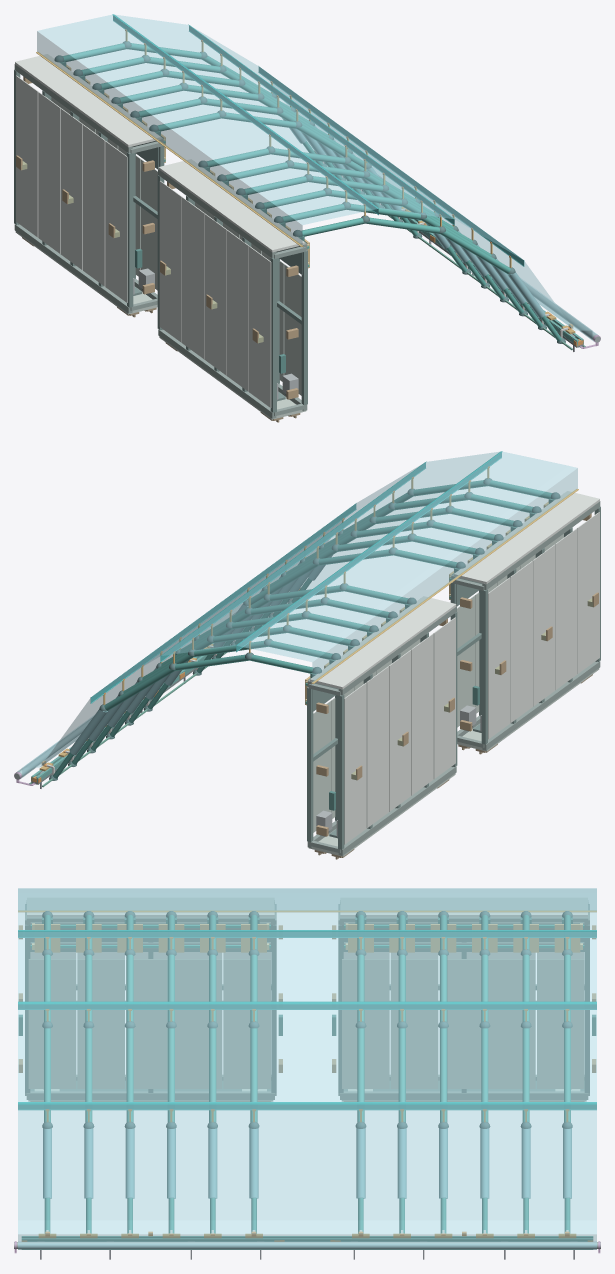
Rendered from 05_two_modules_BR750.glb.
3 renders of one model, top to bottom at view 1: azimuth 30°, elevation 25°; view 2: azimuth 150°, elevation 25°; view 3: azimuth 270°, elevation 25°, orthographic. The views are drawn at different scales.
Visible parts, largest first — view 1: F04_CONTINUOUS_SINGLE_SHEET, M2_W01_P_wall_top_coping, M1_W01_P_wall_top_coping, M2_W01_P_outer_back_2, M1_W01_P_outer_back_2, M1_W01_P_outer_back_4, M2_W01_P_outer_back_4, M1_W01_P_outer_back_3, M1_W01_P_outer_back_1, M2_W01_P_outer_back_3, M2_W01_P_outer_back_5, M1_W01_P_outer_back_5 (+19 smaller); view 2: F04_CONTINUOUS_SINGLE_SHEET, M1_W01_P_wall_top_coping, M2_W01_P_wall_top_coping, M2_W01_P_outer_back_2, M2_W01_P_outer_back_4, M1_W01_P_outer_back_2, M1_W01_P_outer_back_4, M2_W01_P_outer_back_5, M2_W01_P_outer_back_3, M1_W01_P_outer_back_3, M1_W01_P_outer_back_1, M1_W01_P_outer_back_5 (+17 smaller); view 3: F04_CONTINUOUS_SINGLE_SHEET, M1_W01_P_front_lower_1, M2_W01_P_front_lower_2, M1_W01_P_front_lower_2, M1_W01_P_front_lower_5, M2_W01_P_front_lower_1, M2_W01_P_front_lower_4, M2_W01_P_front_lower_5, M1_W01_P_front_lower_4, M1_W01_P_front_lower_3, M2_W01_P_front_lower_3, M1_W01_P_wall_top_coping (+55 smaller).
Part boxes in pixels (x1=…): F04_CONTINUOUS_SINGLE_SHEET: x1=37, y1=15, x2=597, y2=341; M2_W01_P_wall_top_coping: x1=15, y1=54, x2=161, y2=147; M1_W01_P_wall_top_coping: x1=158, y1=159, x2=304, y2=252; M2_W01_P_outer_back_2: x1=83, y1=124, x2=105, y2=286; M1_W01_P_outer_back_2: x1=226, y1=230, x2=248, y2=391; M1_W01_P_outer_back_4: x1=182, y1=197, x2=204, y2=358; M2_W01_P_outer_back_4: x1=38, y1=92, x2=60, y2=253; M1_W01_P_outer_back_3: x1=204, y1=213, x2=226, y2=375; M1_W01_P_outer_back_1: x1=249, y1=246, x2=271, y2=407; M2_W01_P_outer_back_3: x1=60, y1=108, x2=83, y2=270; M2_W01_P_outer_back_5: x1=16, y1=75, x2=38, y2=237; M1_W01_P_outer_back_5: x1=159, y1=181, x2=181, y2=342; F04_CONTINUOUS_SINGLE_SHEET: x1=17, y1=452, x2=577, y2=778; M1_W01_P_wall_top_coping: x1=453, y1=491, x2=599, y2=584; M2_W01_P_wall_top_coping: x1=310, y1=596, x2=456, y2=689; M2_W01_P_outer_back_2: x1=411, y1=633, x2=433, y2=795; M2_W01_P_outer_back_4: x1=366, y1=666, x2=388, y2=827; M1_W01_P_outer_back_2: x1=555, y1=528, x2=577, y2=690; M1_W01_P_outer_back_4: x1=510, y1=561, x2=532, y2=722; M2_W01_P_outer_back_5: x1=344, y1=682, x2=366, y2=844; M2_W01_P_outer_back_3: x1=389, y1=650, x2=411, y2=811; M1_W01_P_outer_back_3: x1=532, y1=544, x2=555, y2=706; M1_W01_P_outer_back_1: x1=577, y1=512, x2=599, y2=673; M1_W01_P_outer_back_5: x1=488, y1=577, x2=510, y2=739; F04_CONTINUOUS_SINGLE_SHEET: x1=18, y1=888, x2=596, y2=1249; M1_W01_P_front_lower_1: x1=28, y1=959, x2=76, y2=1088; M2_W01_P_front_lower_2: x1=390, y1=959, x2=438, y2=1088; M1_W01_P_front_lower_2: x1=77, y1=959, x2=124, y2=1088; M1_W01_P_front_lower_5: x1=223, y1=959, x2=270, y2=1088; M2_W01_P_front_lower_1: x1=342, y1=959, x2=389, y2=1088; M2_W01_P_front_lower_4: x1=488, y1=959, x2=535, y2=1088; M2_W01_P_front_lower_5: x1=537, y1=959, x2=584, y2=1088; M1_W01_P_front_lower_4: x1=175, y1=959, x2=222, y2=1088; M1_W01_P_front_lower_3: x1=126, y1=959, x2=167, y2=1088; M2_W01_P_front_lower_3: x1=439, y1=959, x2=481, y2=1088; M1_W01_P_wall_top_coping: x1=27, y1=898, x2=274, y2=917.
Bounding box in the file's own units: 5.63 × 3.31 × 7.96.
